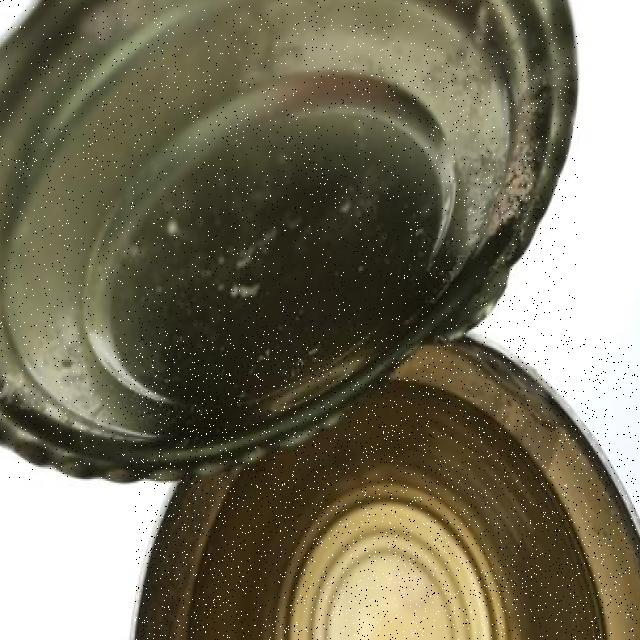metal: (0, 0, 578, 480), (135, 339, 640, 640)
